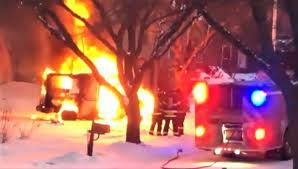fire: (98, 63, 121, 116), (137, 89, 153, 120)
